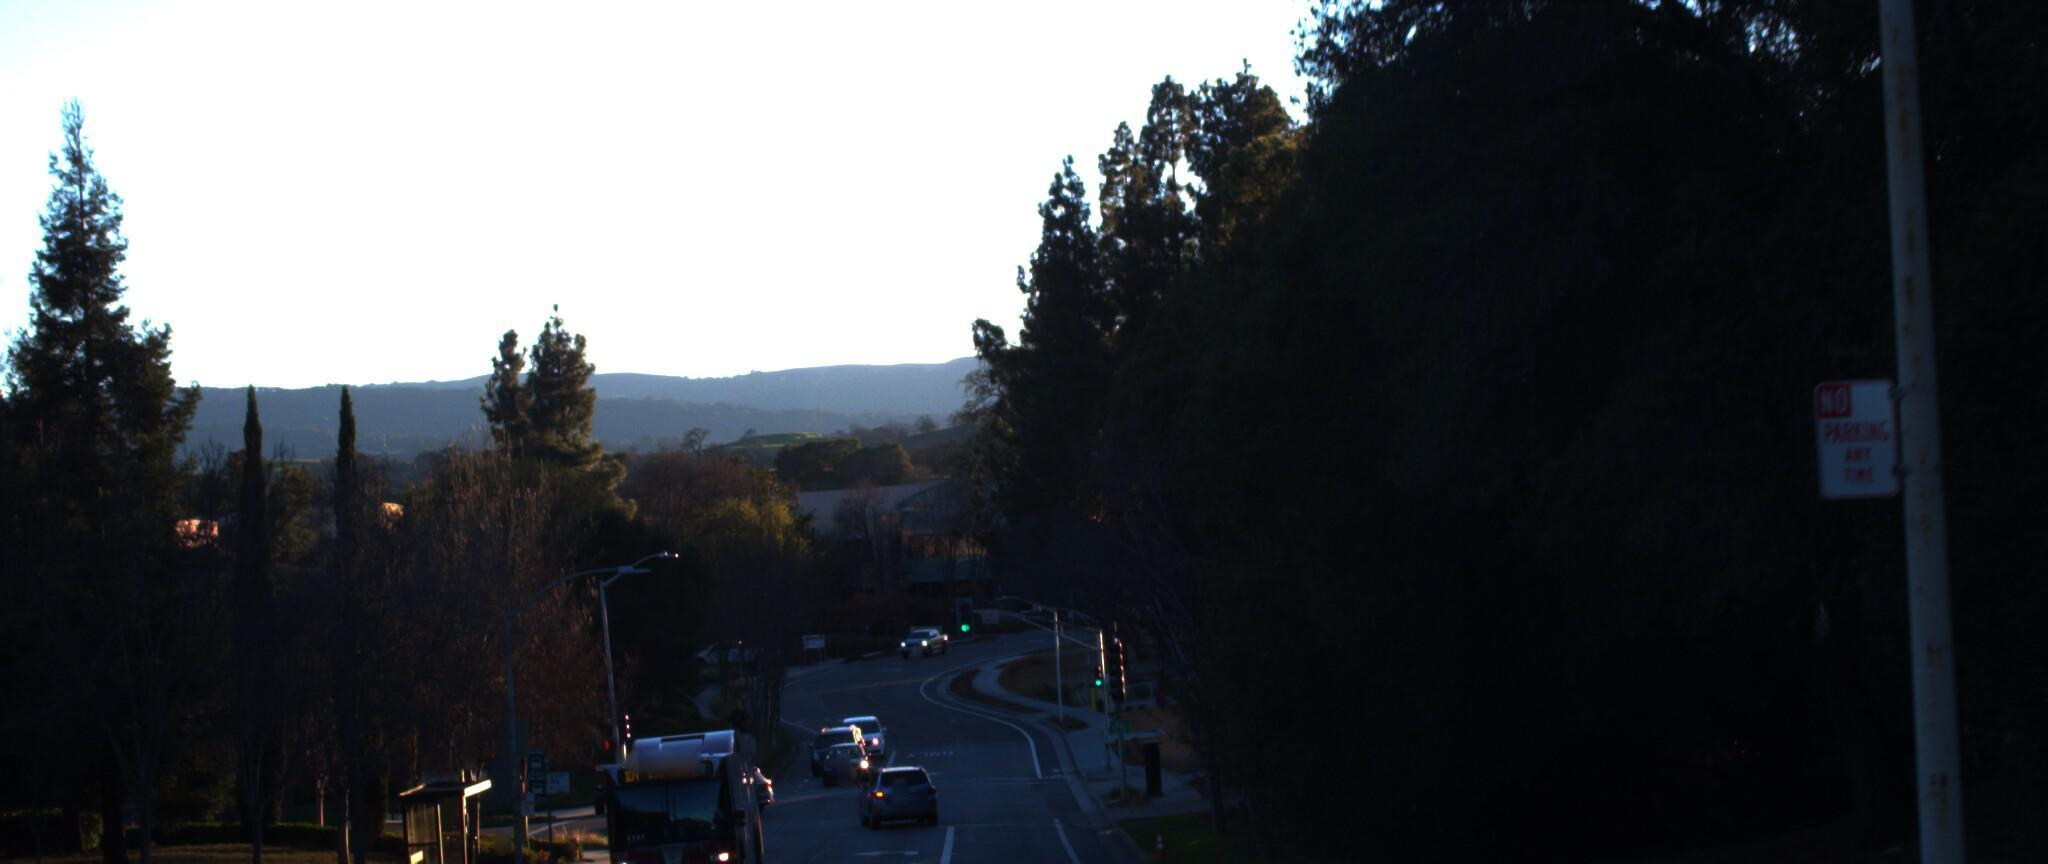bus: (585, 709, 775, 864)
